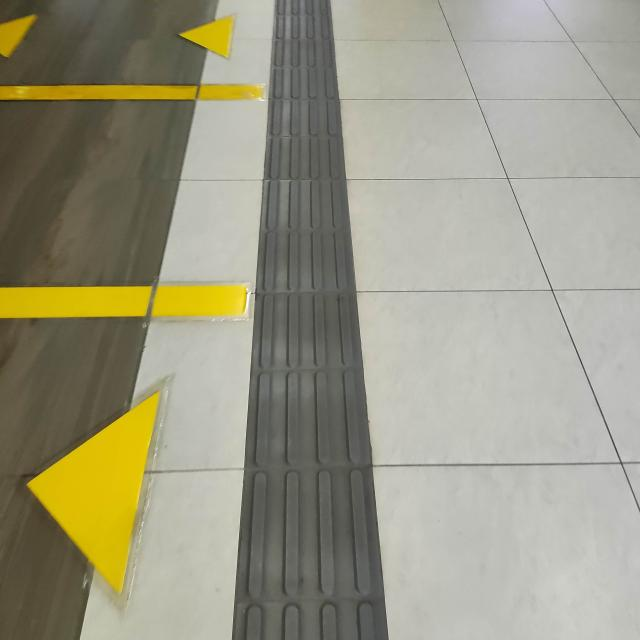lurus: (223, 0, 387, 640)
